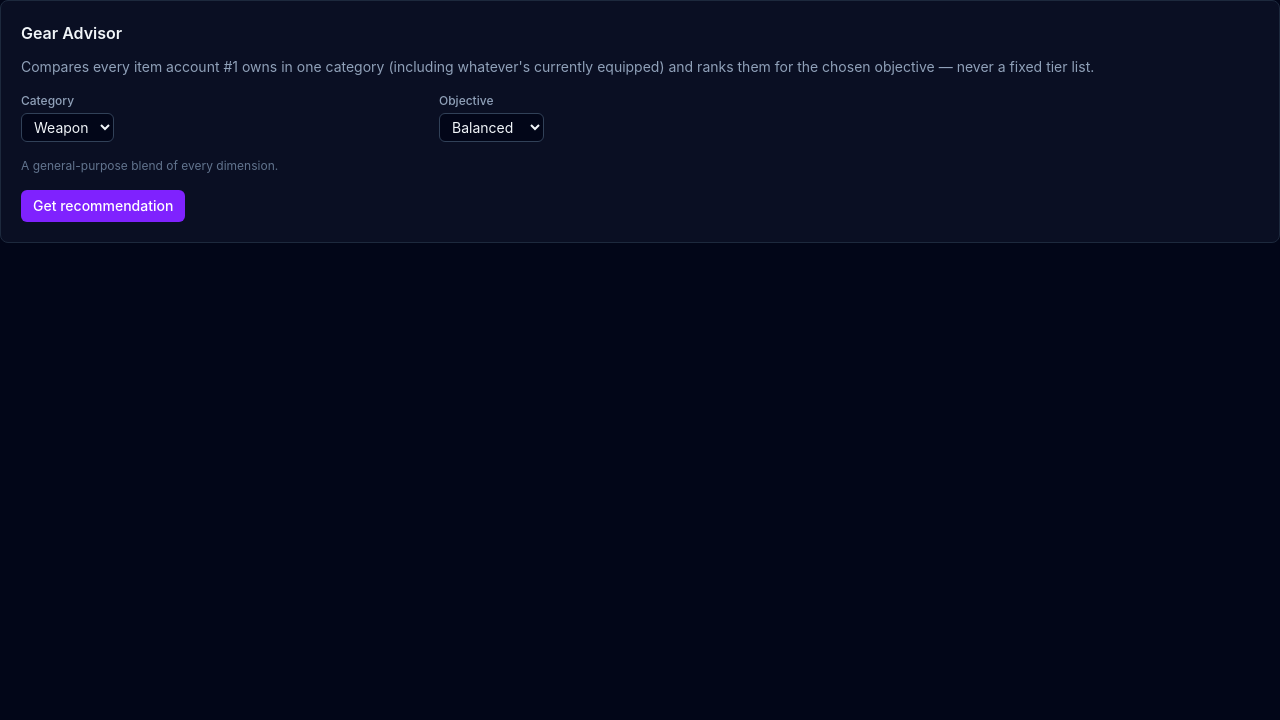
Test: GearAdvisorPage › requests weapon advice by default and renders the ranking
Click the button "Get recommendation" at {"x": 103, "y": 206}, box [21,190,185,222]
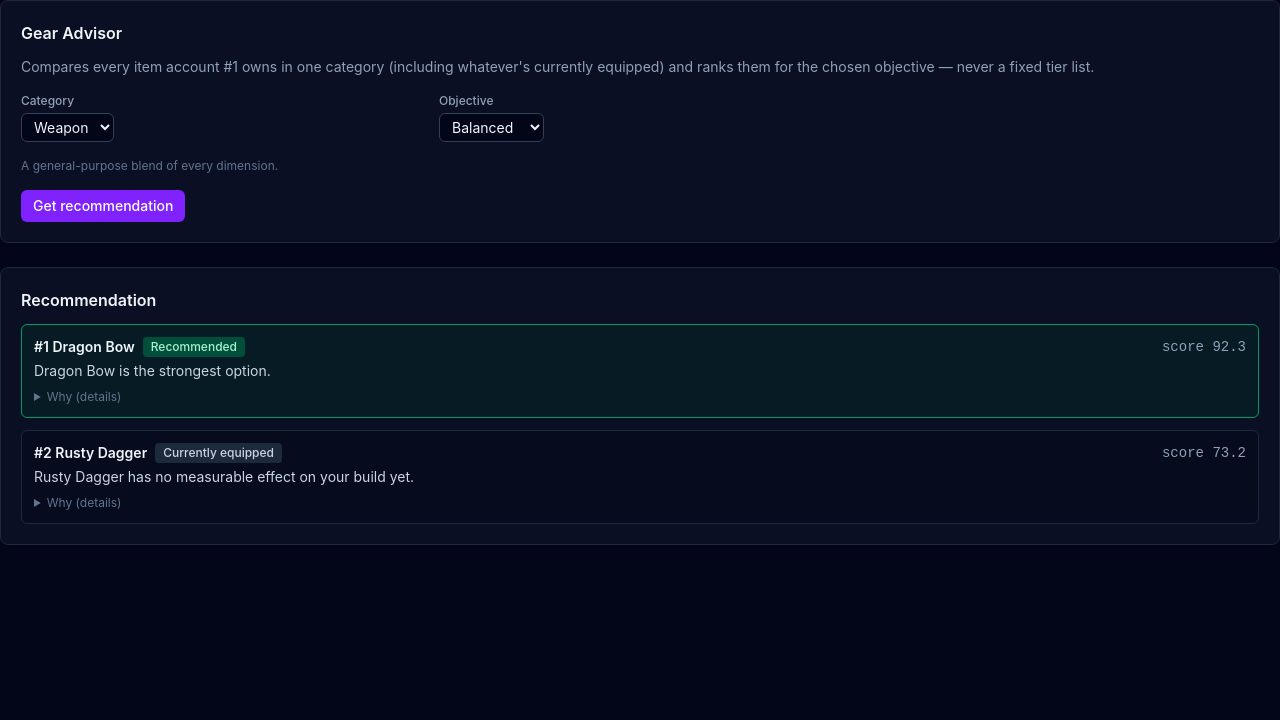
Expected: the text "Dragon Bow is the strongest option." is shown, [34,362,271,379]
Expected: the text "Recommended" is shown, [143,337,245,357]
Expected: the text "Currently equipped" is shown, [155,443,282,463]
